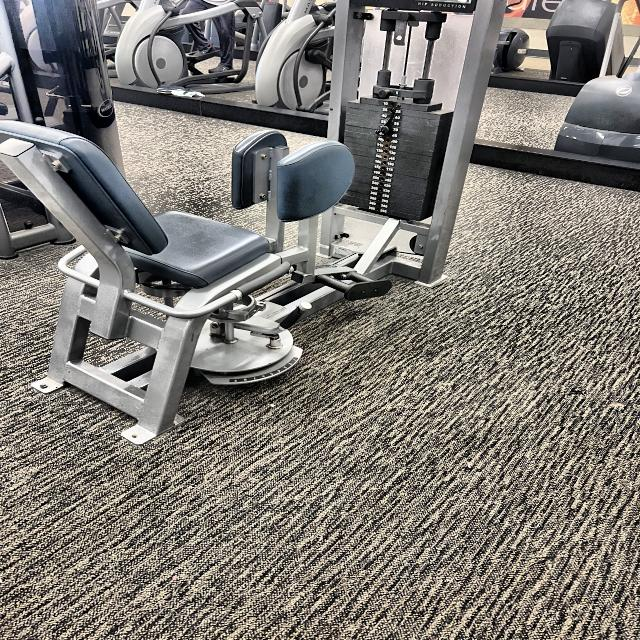hip_adduction_machine: (0, 101, 400, 437), (417, 1, 470, 13)
